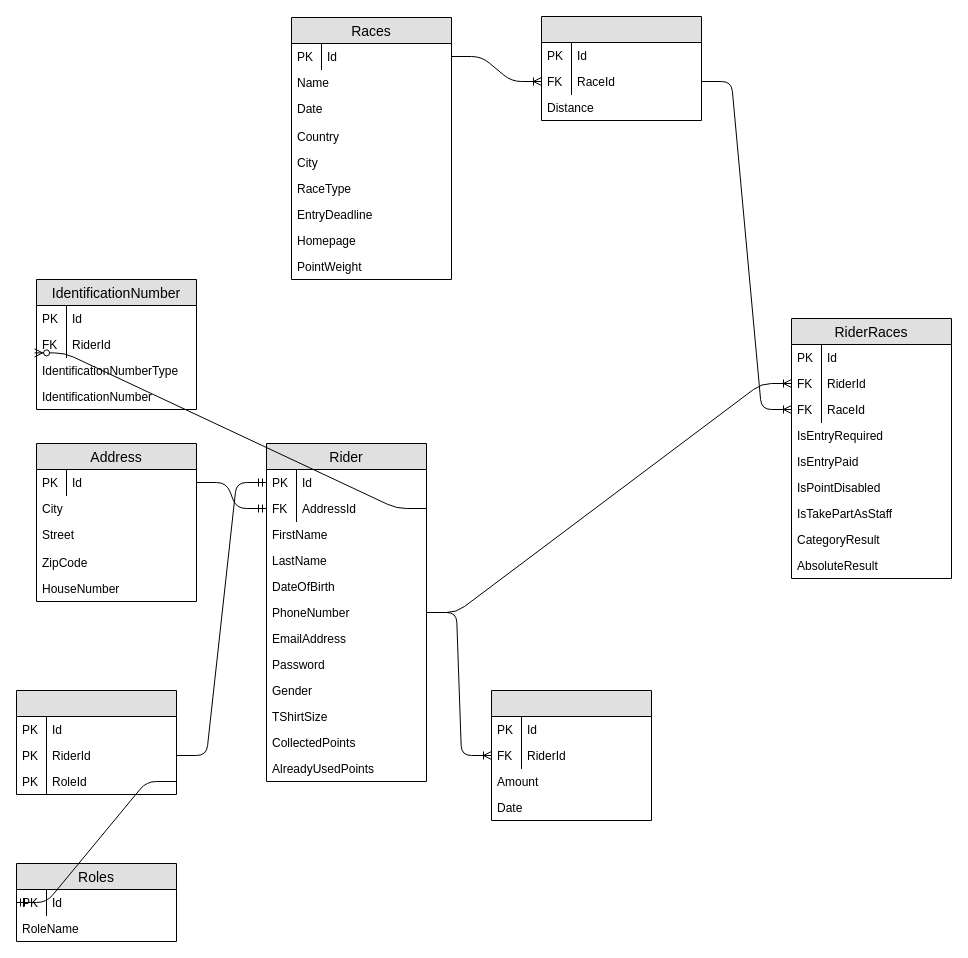
Image size: 968x958. Some labels were removed from this diagram. Each missing label, with the box of its shape:
Bills: (490, 690, 652, 820)
RaceDistances: (540, 16, 702, 120)
RiderRoles: (16, 690, 176, 794)
